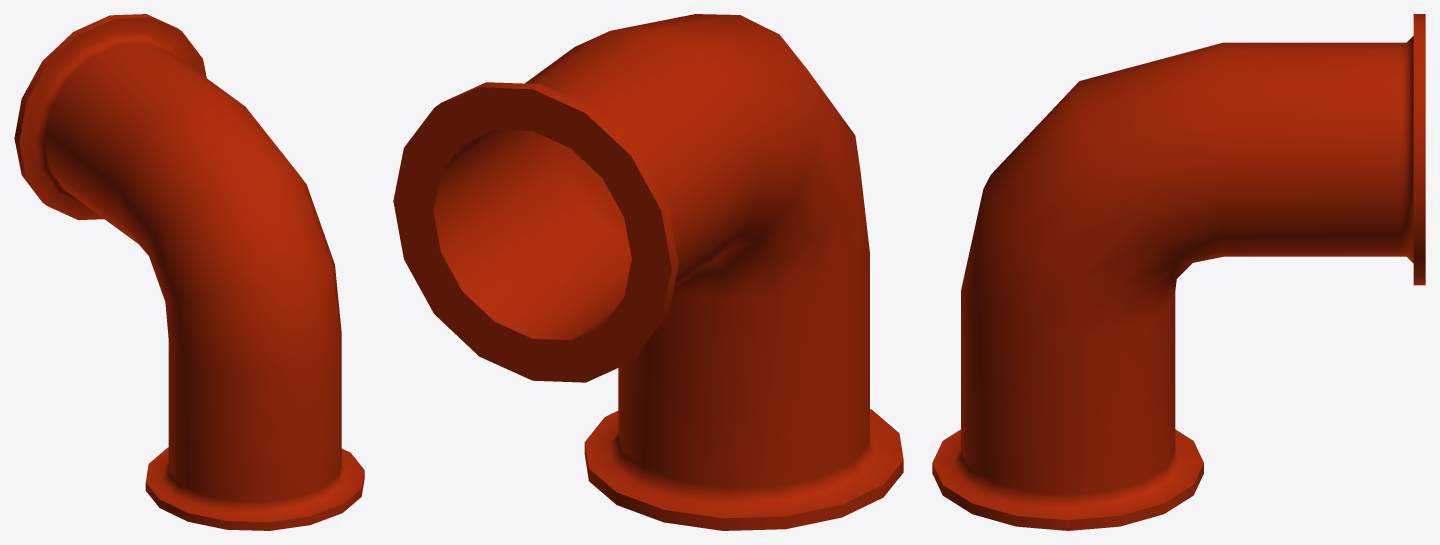
File: Pipe_13.FBX
3 views of the same model, side by side, from view 1: azimuth 30°, elevation 25°; view 2: azimuth 150°, elevation 25°; view 3: azimuth 270°, elevation 25° (orthographic). The views are drawn at different scales.
Visible parts, largest first — view 1: Pipe_up1_013_Low; view 2: Pipe_up1_013_Low; view 3: Pipe_up1_013_Low.
Part boxes in pixels (<box>): Pipe_up1_013_Low: <box>14,14,364,530</box>; Pipe_up1_013_Low: <box>393,14,903,530</box>; Pipe_up1_013_Low: <box>932,14,1425,530</box>.
Size of the model in its own units: 38 by 68.99 by 69.
